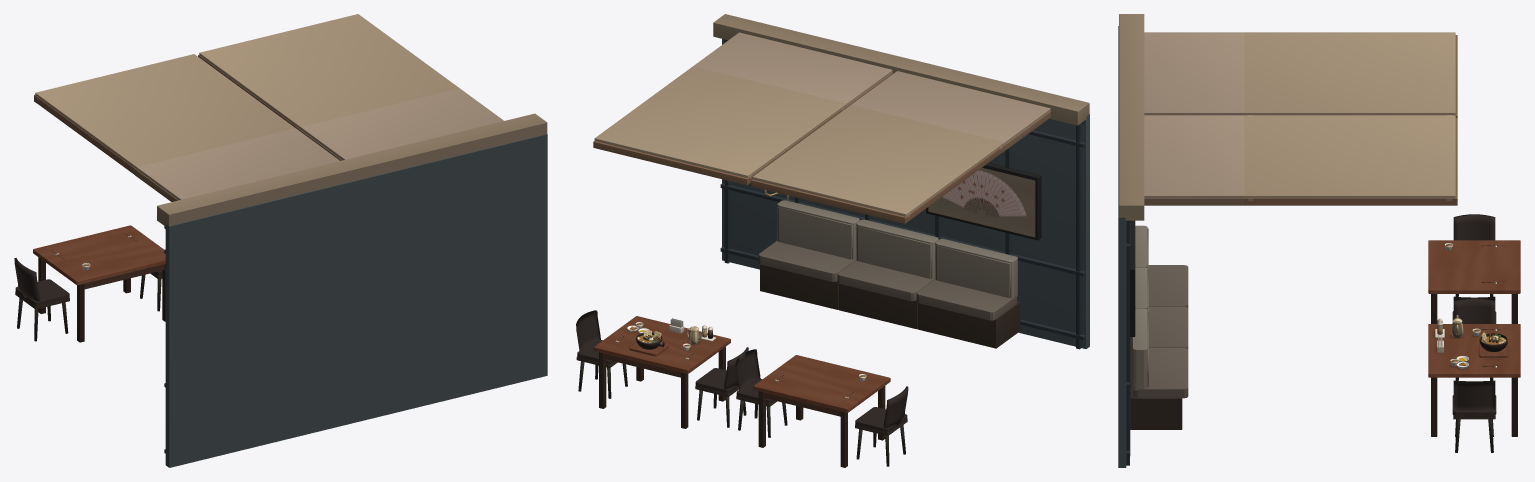
The model's file is gallery.glb.
3 views of the same model, side by side, from view 1: azimuth 30°, elevation 25°; view 2: azimuth 150°, elevation 25°; view 3: azimuth 270°, elevation 25° (orthographic). The views are drawn at different scales.
Visible parts, largest first — view 1: HokyungJoinery, HokyungFanAndWood; view 2: HokyungJoinery, HokyungFanAndWood, HokyungSizzlingRice; view 3: HokyungJoinery, HokyungFanAndWood, HokyungSizzlingRice.
Boxes of the visible parts, box(x1,y1,x2,y2) form: HokyungJoinery: box(15, 14, 547, 467); HokyungFanAndWood: box(14, 225, 165, 305); HokyungJoinery: box(576, 14, 1089, 467); HokyungFanAndWood: box(576, 167, 1035, 432); HokyungSizzlingRice: box(614, 322, 866, 400); HokyungJoinery: box(1118, 14, 1517, 467); HokyungFanAndWood: box(1428, 214, 1520, 415); HokyungSizzlingRice: box(1435, 243, 1507, 368).
Size of the model in its own units: 4.8 by 3.07 by 4.26.
5 materials, 1 textured.
